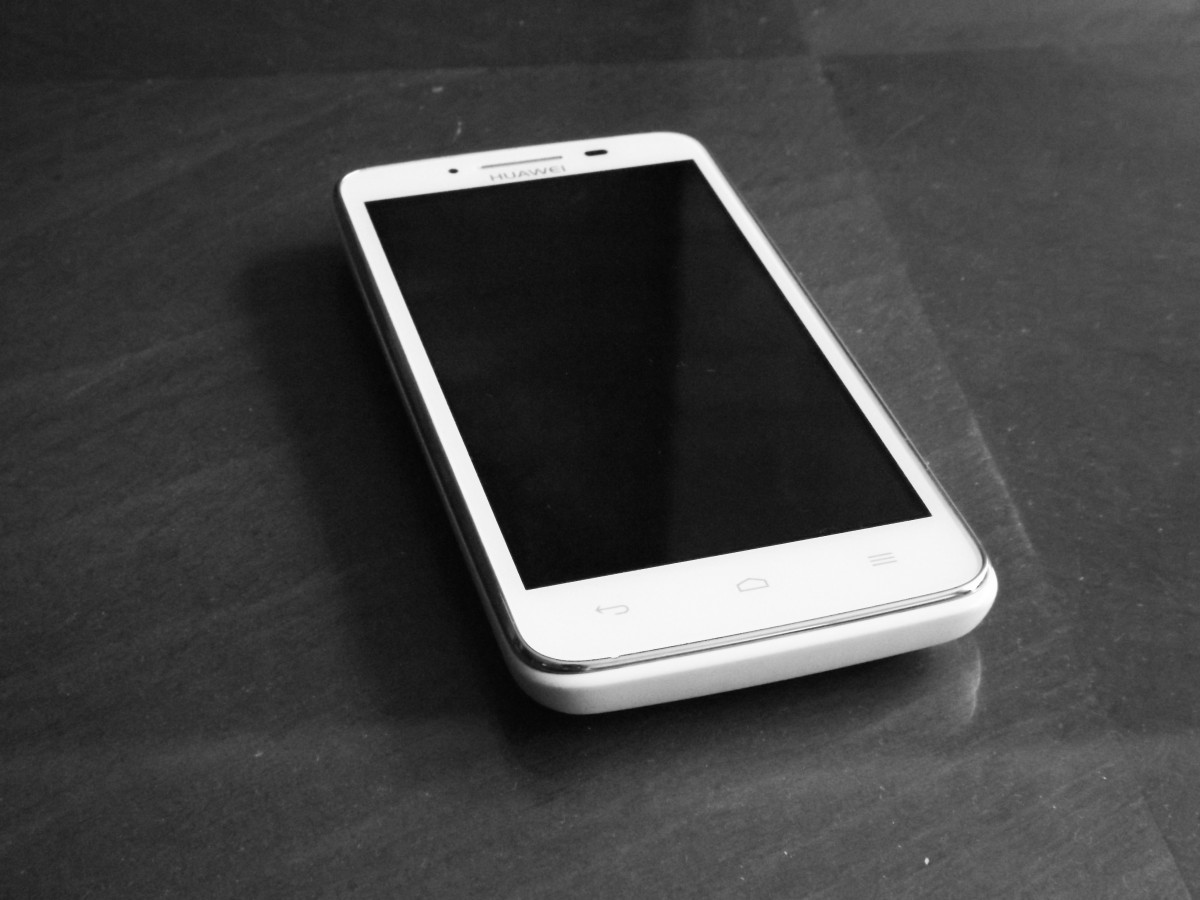Phone: (331, 126, 1004, 723)
